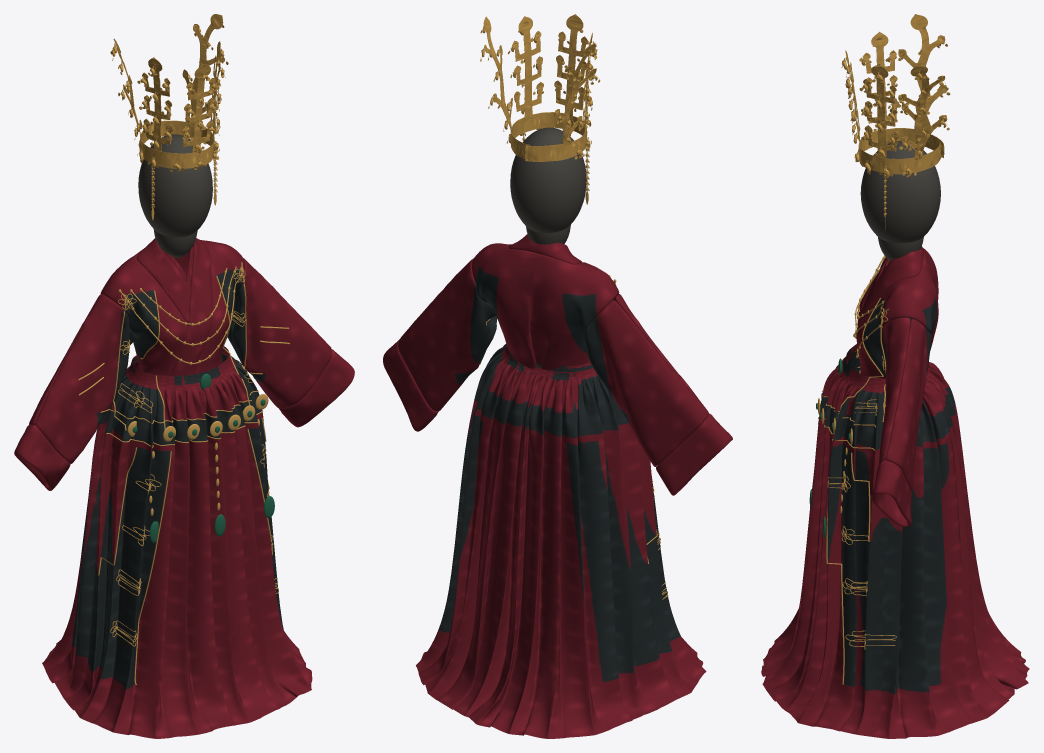
The picture shows the model from 3 angles, left to right: view 1: azimuth 30°, elevation 25°; view 2: azimuth 150°, elevation 25°; view 3: azimuth 270°, elevation 25°; orthographic projection. The views are drawn at different scales.
Parts seen in each view (by area): view 1: CL_24CL0007_High; view 2: CL_24CL0007_High; view 3: CL_24CL0007_High.
Part boxes in pixels (x1=…): CL_24CL0007_High: x1=14, y1=14, x2=354, y2=738; CL_24CL0007_High: x1=383, y1=14, x2=732, y2=738; CL_24CL0007_High: x1=761, y1=14, x2=1029, y2=738.
Size of the model in its own units: 1.09 by 1.98 by 0.7489.
9 materials, 6 textured.
